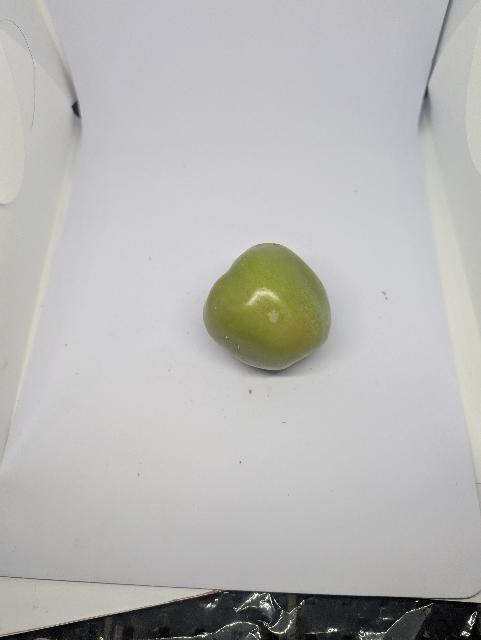green: (202, 242, 335, 375)
